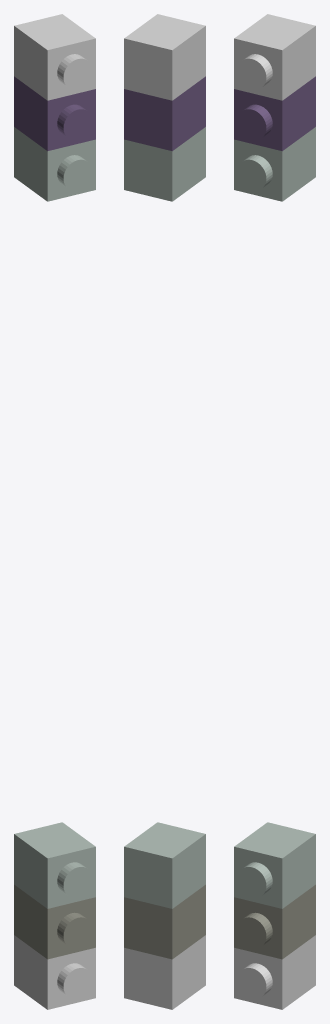
The model's file is current.glb.
3 renders of one model, left to right at view 1: azimuth 30°, elevation 25°; view 2: azimuth 150°, elevation 25°; view 3: azimuth 330°, elevation 25°, orthographic.
Parts seen in each view (by area): view 1: world; view 2: world; view 3: world.
Boxes of the visible parts, x1,y1,x2,y2 form: world: [14, 14, 95, 1009]; world: [124, 14, 205, 1009]; world: [234, 14, 315, 1009].
Bounding box in the file's own units: 8 × 152 × 11.4.
